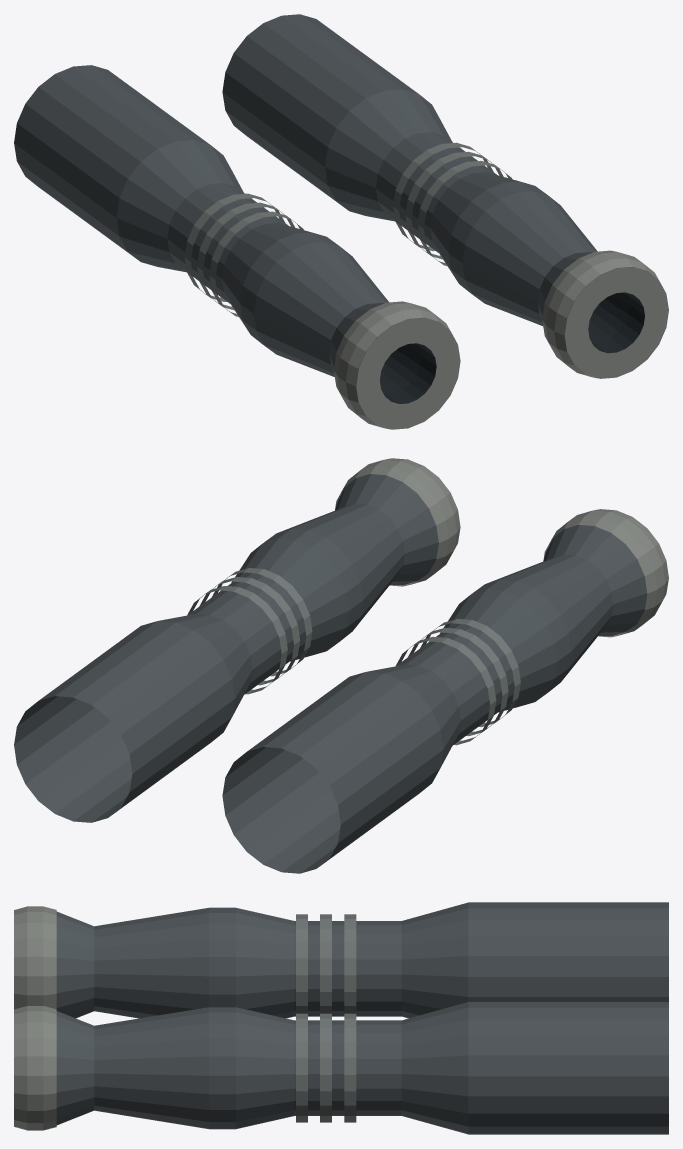
File: SiegeTurretBarrel.obj
The picture shows the model from 3 angles, top to bottom: view 1: azimuth 30°, elevation 25°; view 2: azimuth 150°, elevation 25°; view 3: azimuth 270°, elevation 25°; orthographic projection. The views are drawn at different scales.
Visible parts, largest first — view 1: SiegeTurretBarrel; view 2: SiegeTurretBarrel; view 3: SiegeTurretBarrel.
Boxes of the visible parts, box(x1,y1,x2,y2) form: SiegeTurretBarrel: box(14, 14, 668, 429); SiegeTurretBarrel: box(14, 458, 668, 873); SiegeTurretBarrel: box(14, 902, 668, 1134).
Bounding box in the file's own units: 1.38 × 0.5 × 2.45.
Materials: 1 (1 with a texture image).
